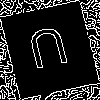U: (24, 25, 73, 79)
